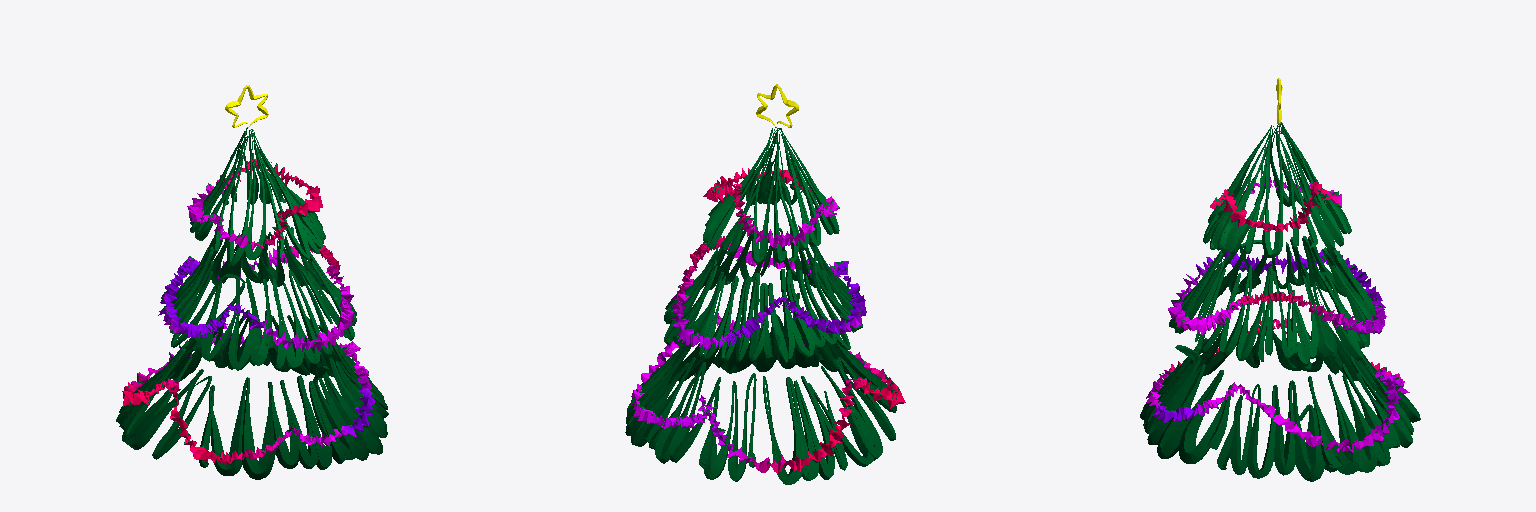
3 views of the same model, side by side, from view 1: azimuth 30°, elevation 25°; view 2: azimuth 150°, elevation 25°; view 3: azimuth 270°, elevation 25° (orthographic).
Visible parts, largest first — view 1: GP_Layer.002_GP_Layer.005; view 2: GP_Layer.002_GP_Layer.005; view 3: GP_Layer.002_GP_Layer.005.
Boxes of the visible parts, <box> form: GP_Layer.002_GP_Layer.005: <box>116,85,388,479</box>; GP_Layer.002_GP_Layer.005: <box>625,84,905,484</box>; GP_Layer.002_GP_Layer.005: <box>1140,78,1420,481</box>.
Bounding box in the file's own units: 1.91 × 2.64 × 1.94.
Materials: 1 (1 with a texture image).